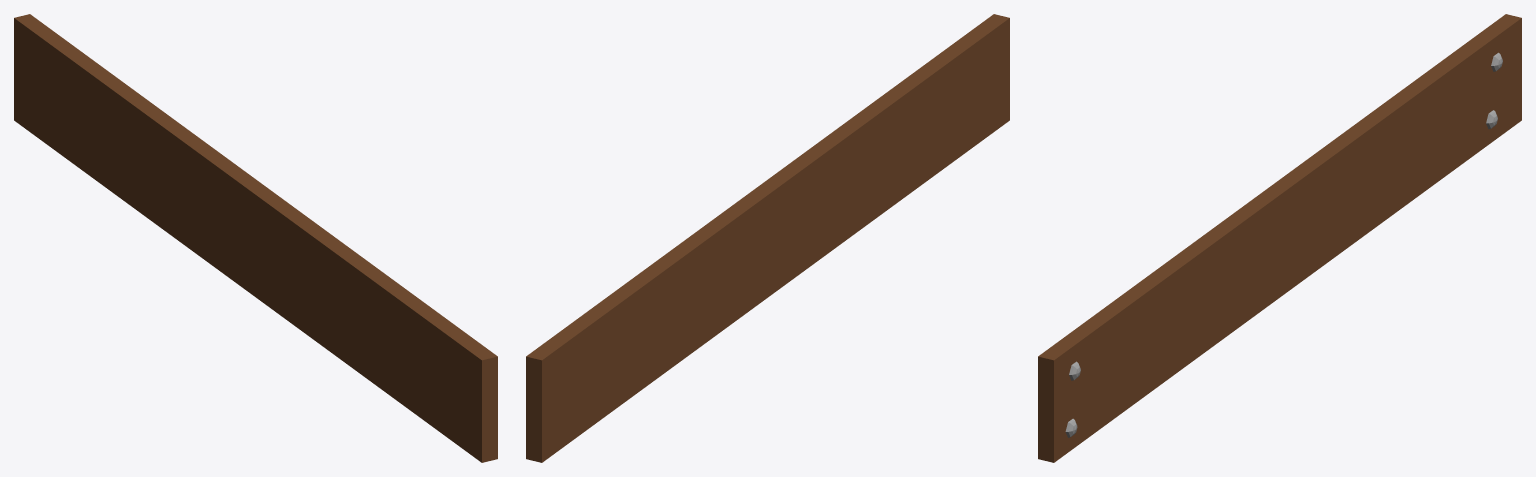
File: Plank.fbx
3 views of the same model, side by side, from view 1: azimuth 30°, elevation 25°; view 2: azimuth 150°, elevation 25°; view 3: azimuth 330°, elevation 25° (orthographic).
Visible parts, largest first — view 1: Sphere; view 2: Sphere; view 3: Sphere.
Part boxes in pixels (x1,y1,x2,y2): Sphere: [14, 14, 497, 462]; Sphere: [526, 14, 1009, 462]; Sphere: [1038, 14, 1521, 462].
Bounding box in the file's own units: 43.85 × 200 × 1654.
1 material, 1 textured.
